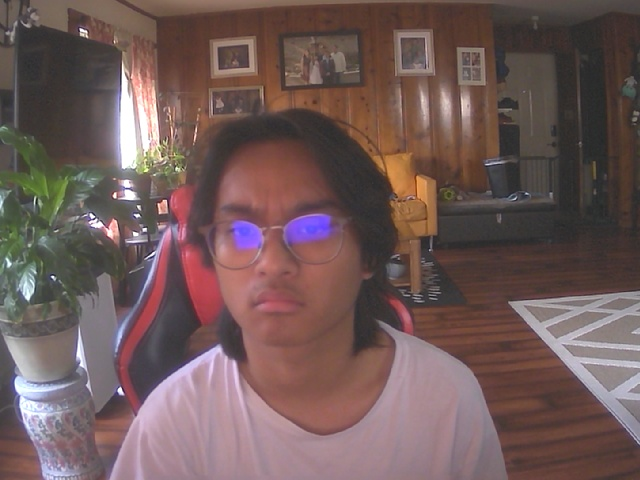anger: (193, 124, 384, 357)
